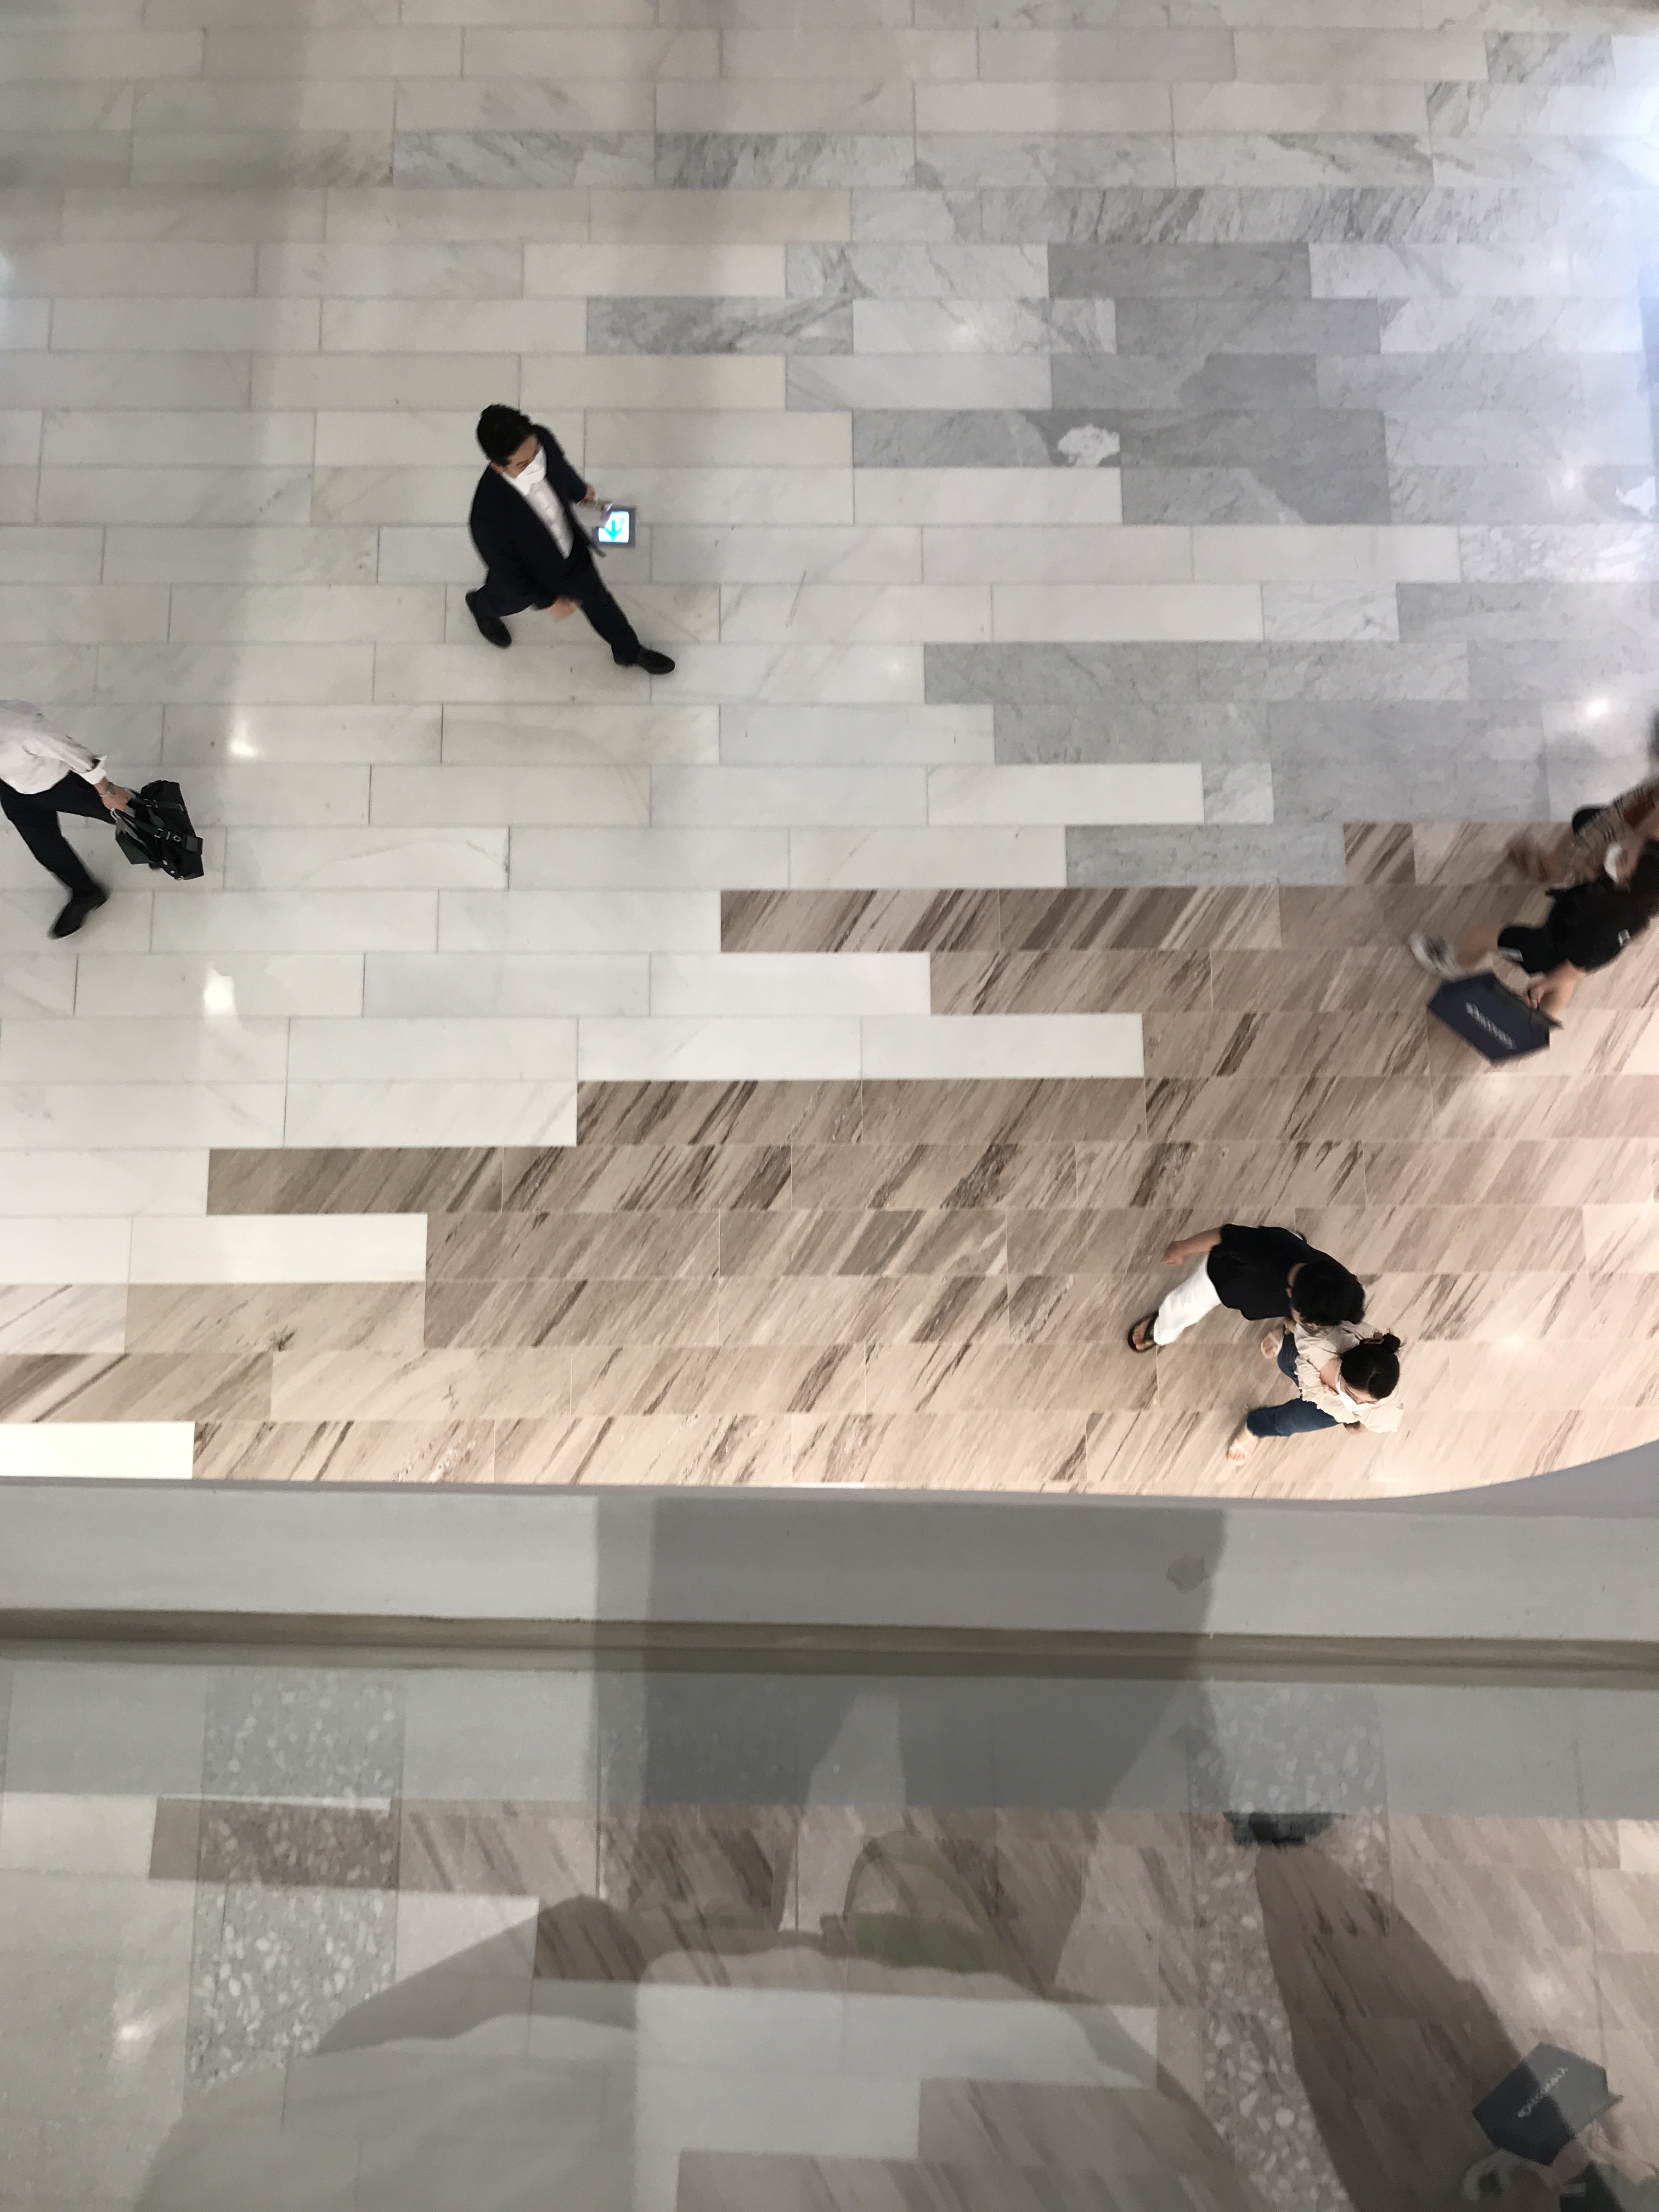person: (455, 404, 681, 690), (1403, 842, 1659, 1023), (1, 695, 149, 939), (1122, 1218, 1364, 1355), (1220, 1319, 1414, 1469)
